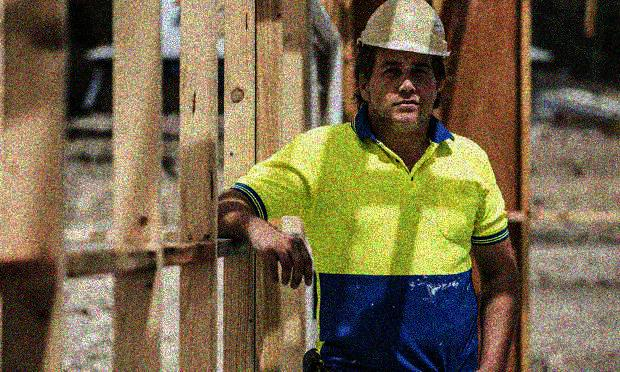helmet: (352, 1, 454, 127)
